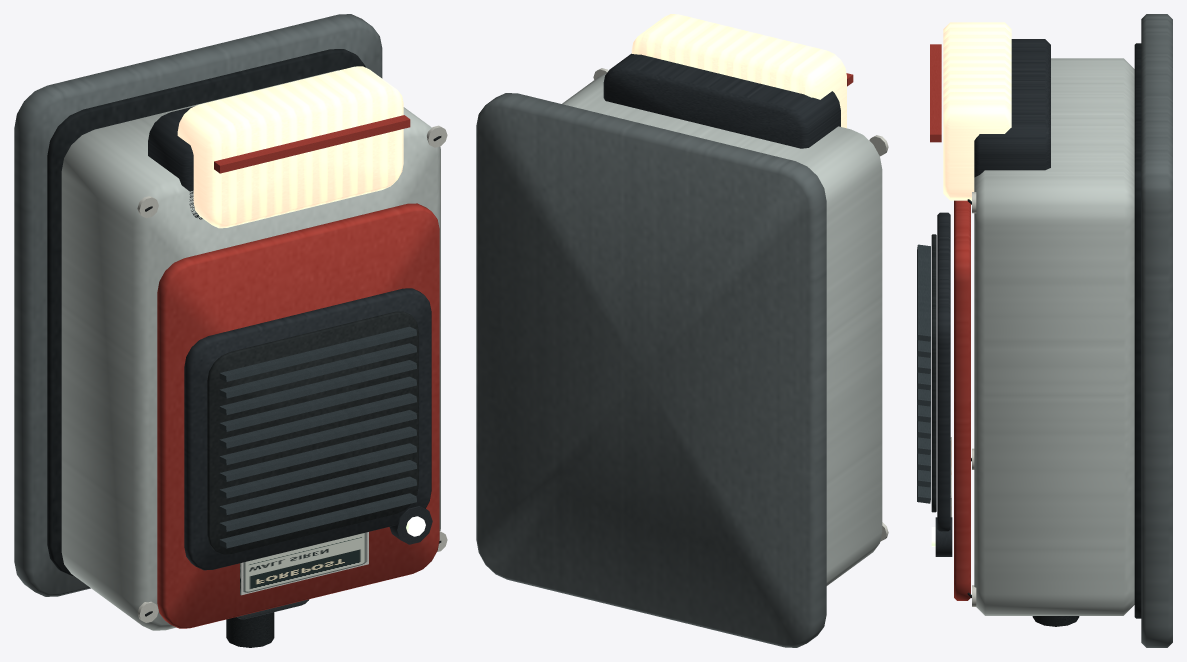
Rendered from PZ_Wall_Siren.glb.
3 views of the same model, side by side, from view 1: azimuth 30°, elevation 25°; view 2: azimuth 150°, elevation 25°; view 3: azimuth 270°, elevation 25° (orthographic). The views are drawn at different scales.
Visible parts, largest first — view 1: SIREN_MainHousing, SIREN_FrontRedPanel, SIREN_WallBackplate, SIREN_AlarmBeaconRed, SIREN_SpeakerBlackCavity, SIREN_AcousticGrilleBezel, SIREN_Gasket, SIREN_BrandLabel, SIREN_BeaconDividingBar, SIREN_UpperBeaconCradle, SIREN_GrilleLouver_01, SIREN_GrilleLouver_09 (+11 smaller); view 2: SIREN_WallBackplate, SIREN_MainHousing, SIREN_UpperBeaconCradle, SIREN_AlarmBeaconRed; view 3: SIREN_MainHousing, SIREN_WallBackplate, SIREN_AlarmBeaconRed, SIREN_FrontRedPanel, SIREN_UpperBeaconCradle, SIREN_Gasket, SIREN_AcousticGrilleBezel, SIREN_SpeakerBlackCavity, SIREN_GrilleLouver_10, SIREN_BeaconDividingBar, SIREN_SecurityIndicatorBezel, SIREN_ConduitGland.
Part boxes in pixels (left/top/right/bottom): SIREN_MainHousing: left=61, top=70, right=440, bottom=630; SIREN_FrontRedPanel: left=157, top=203, right=439, bottom=628; SIREN_WallBackplate: left=14, top=14, right=382, bottom=596; SIREN_AlarmBeaconRed: left=177, top=66, right=403, bottom=228; SIREN_SpeakerBlackCavity: left=207, top=311, right=418, bottom=554; SIREN_AcousticGrilleBezel: left=184, top=288, right=431, bottom=570; SIREN_Gasket: left=47, top=49, right=365, bottom=575; SIREN_BrandLabel: left=240, top=532, right=368, bottom=595; SIREN_BeaconDividingBar: left=214, top=115, right=410, bottom=173; SIREN_UpperBeaconCradle: left=148, top=106, right=202, bottom=219; SIREN_GrilleLouver_01: left=219, top=476, right=416, bottom=531; SIREN_GrilleLouver_09: left=219, top=343, right=416, bottom=398; SIREN_WallBackplate: left=476, top=93, right=826, bottom=647; SIREN_MainHousing: left=562, top=73, right=882, bottom=585; SIREN_UpperBeaconCradle: left=603, top=53, right=840, bottom=148; SIREN_AlarmBeaconRed: left=631, top=14, right=846, bottom=128; SIREN_MainHousing: left=974, top=58, right=1134, bottom=615; SIREN_WallBackplate: left=1141, top=14, right=1172, bottom=647; SIREN_AlarmBeaconRed: left=943, top=22, right=1011, bottom=200; SIREN_FrontRedPanel: left=954, top=200, right=970, bottom=600; SIREN_UpperBeaconCradle: left=974, top=39, right=1050, bottom=177; SIREN_Gasket: left=1134, top=43, right=1141, bottom=618; SIREN_AcousticGrilleBezel: left=937, top=212, right=950, bottom=531; SIREN_SpeakerBlackCavity: left=931, top=234, right=936, bottom=512; SIREN_GrilleLouver_10: left=917, top=244, right=930, bottom=341; SIREN_BeaconDividingBar: left=930, top=44, right=941, bottom=142; SIREN_SecurityIndicatorBezel: left=935, top=517, right=952, bottom=556; SIREN_ConduitGland: left=1032, top=616, right=1079, bottom=626.
Size of the model in its own units: 0.24 by 0.367 by 0.1532.
Materials: 2 (2 with a texture image).
